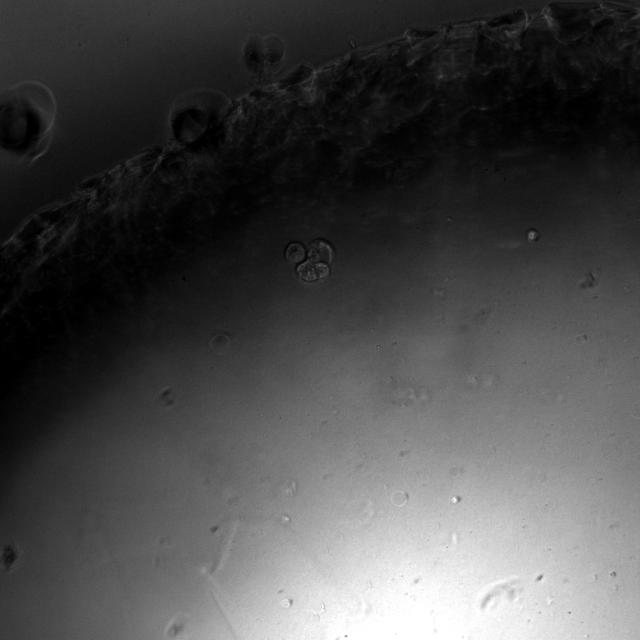organoid: (284, 239, 334, 283), (524, 228, 540, 245)
